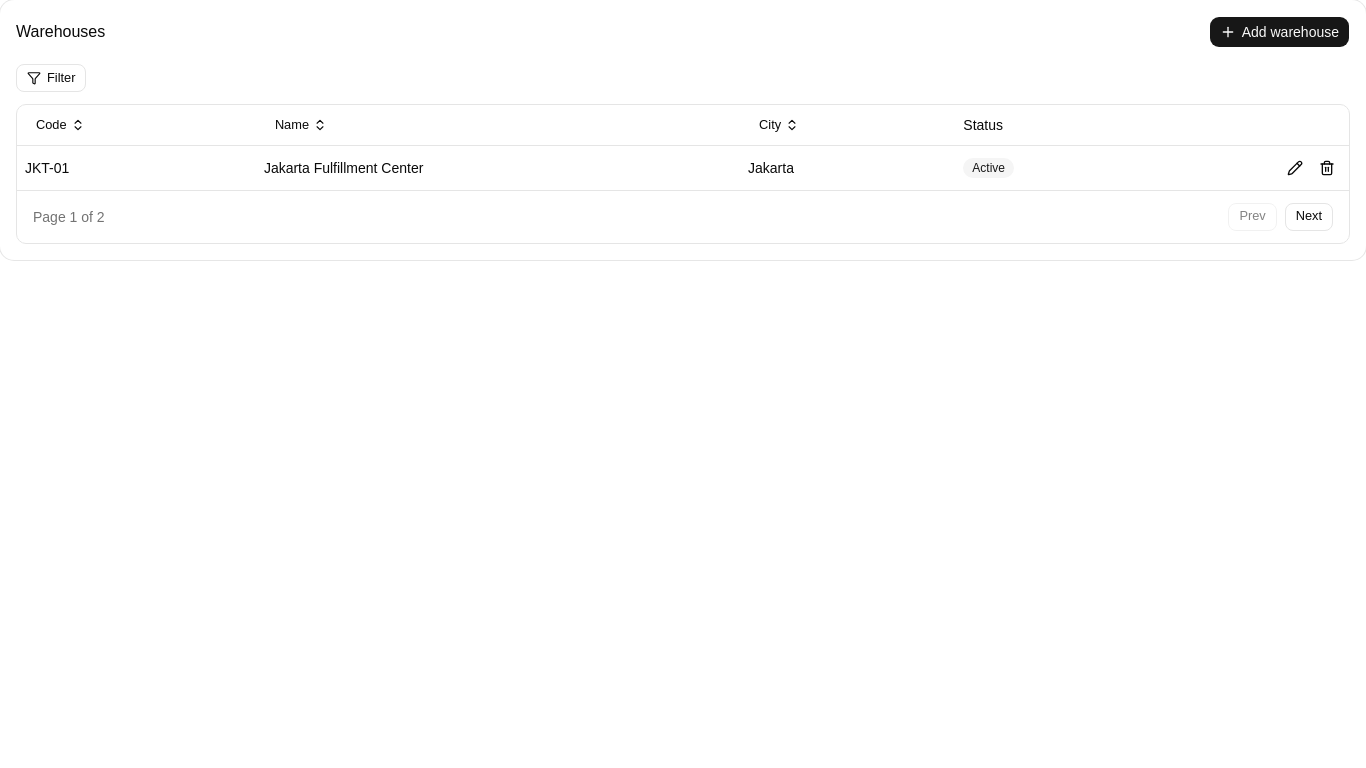
Test: WarehousesTable › filters warehouses and resets pagination
Check: the text "Jakarta Fulfillment Center" is shown, box x1=256 y1=145 x2=740 y2=190
Click the button "Next" at (1309, 216), box x1=1285 y1=202 x2=1333 y2=230
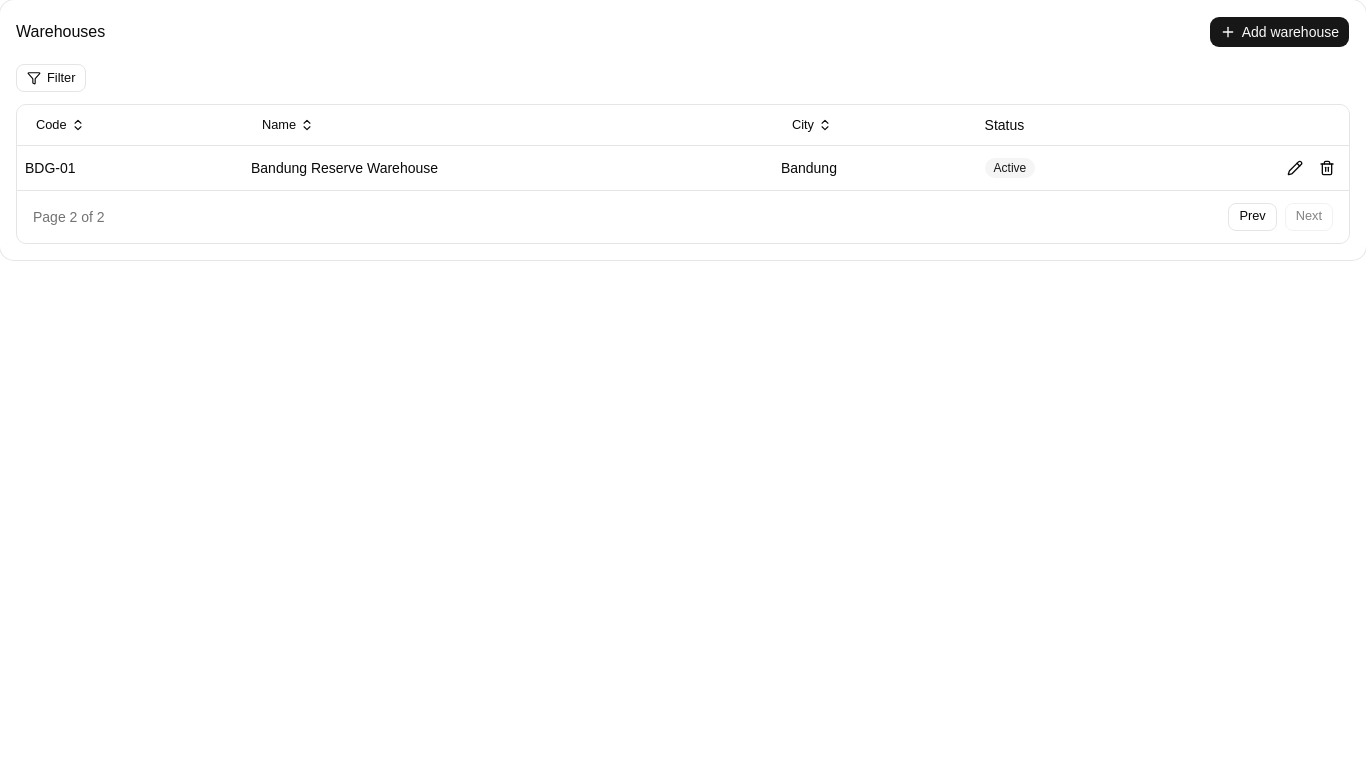
Check: the text "Page 2 of 2" is shown, box x1=33 y1=206 x2=105 y2=226
Click the button "Filter" at (51, 78), box x1=16 y1=64 x2=86 y2=92
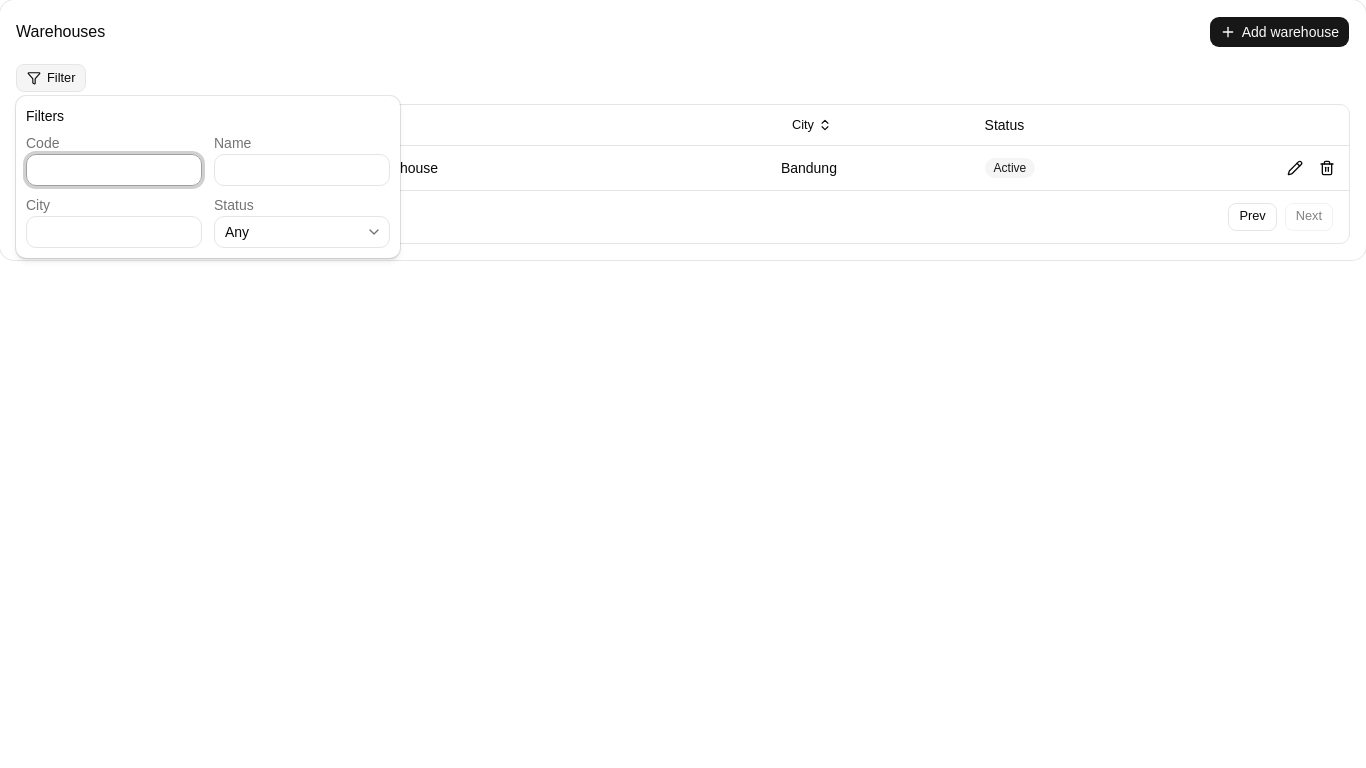
Type "bandung" into the field named "Filter warehouses by city" at (114, 232), box x1=26 y1=216 x2=202 y2=248
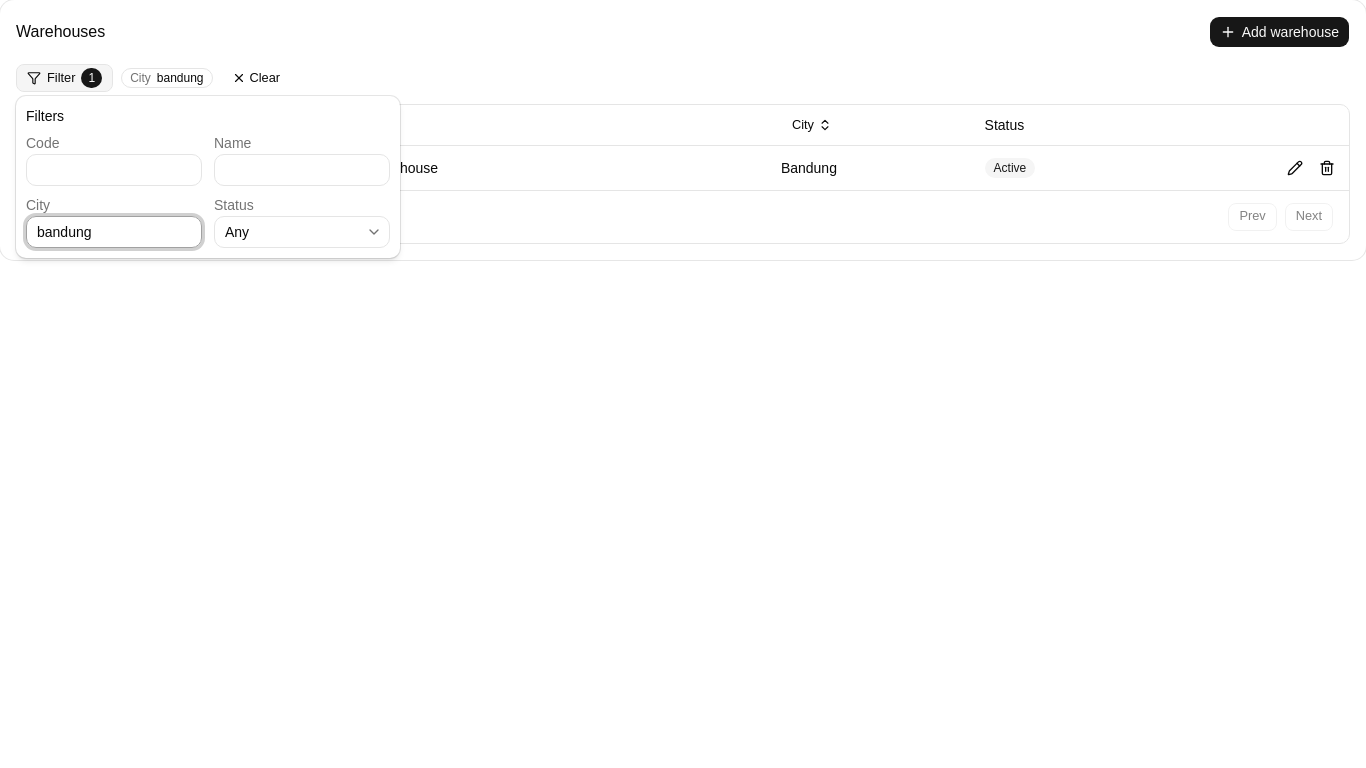
Check: the text "Page 1 of 1" is shown, box x1=33 y1=206 x2=105 y2=226
